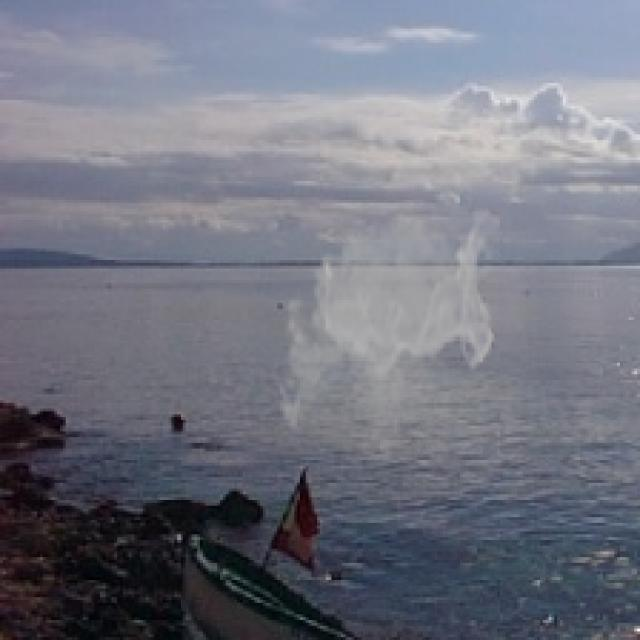smoke: (271, 200, 500, 463)
